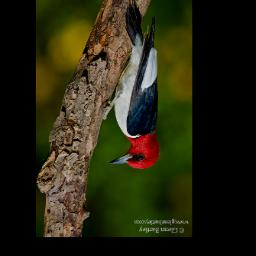Woodpecker: (98, 0, 163, 168)
